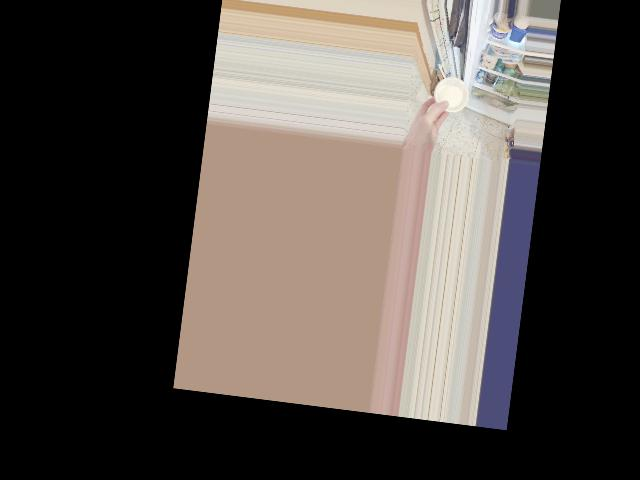cotage: (428, 74, 468, 114)
